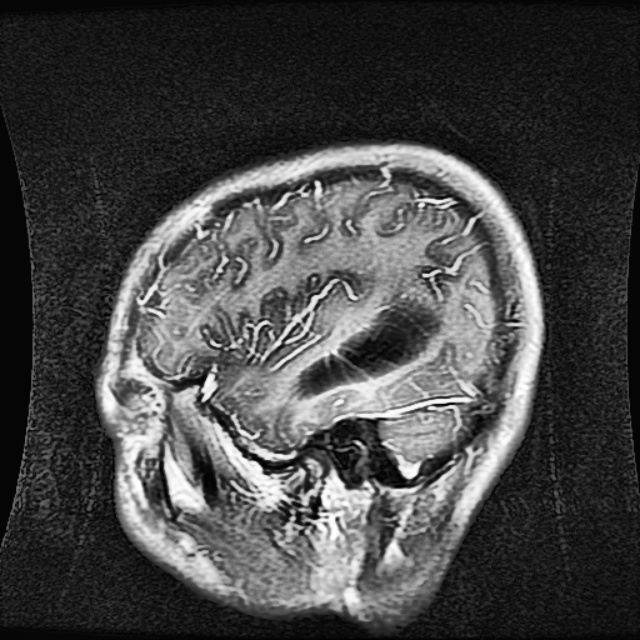Meningioma: (297, 299, 439, 395)
